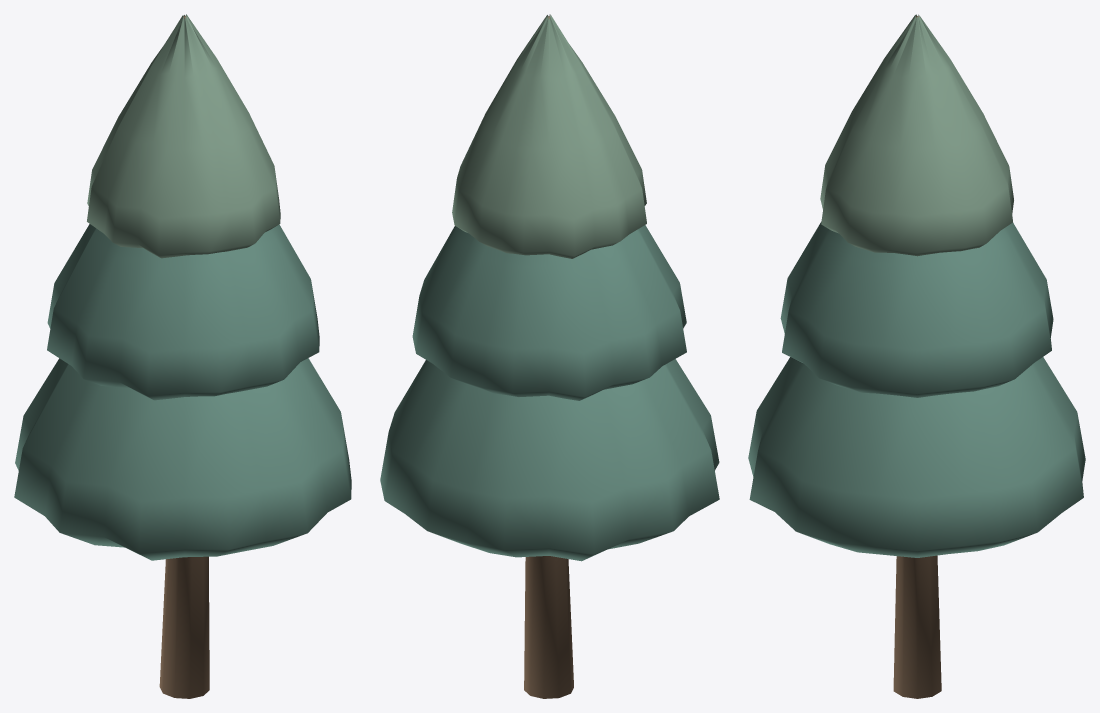
File: SM_Pine_0.fbx
The picture shows the model from 3 angles, left to right: view 1: azimuth 30°, elevation 25°; view 2: azimuth 150°, elevation 25°; view 3: azimuth 270°, elevation 25°; orthographic projection.
Visible parts, largest first — view 1: SM_Pine_0; view 2: SM_Pine_0; view 3: SM_Pine_0.
Part boxes in pixels (left/top/right/bottom): SM_Pine_0: left=14, top=14, right=351, bottom=698; SM_Pine_0: left=380, top=14, right=719, bottom=698; SM_Pine_0: left=748, top=14, right=1085, bottom=698.
Bounding box in the file's own units: 472 × 469 × 1034.
